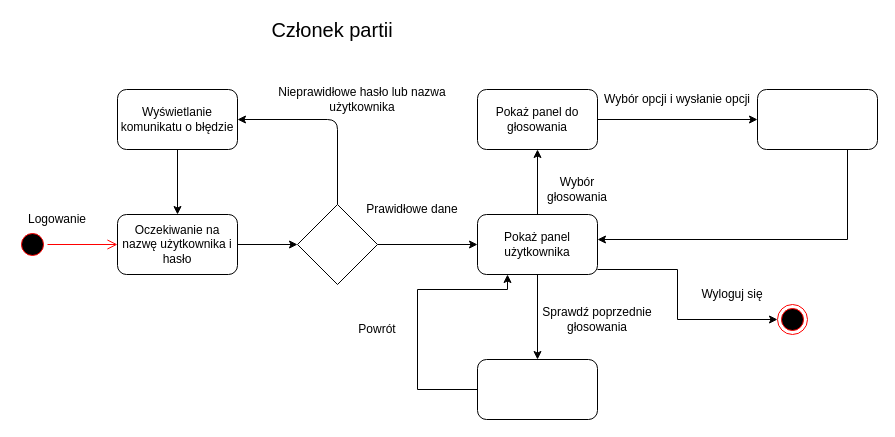
Some shapes in this 895 by 437 pixel diagram are drawn without their labels. Here are the shapes that lost their labels. From the top down, the centre of each, then its label:
(x=817, y=119): Wyświetl komunikat o wysłaniu głosu
(x=537, y=389): Wyświetl poprzednie głosowania
